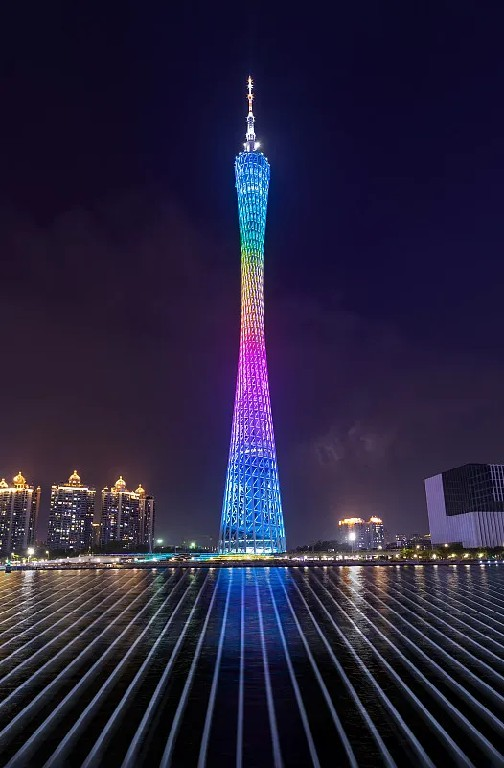Canton: (216, 74, 289, 555)
